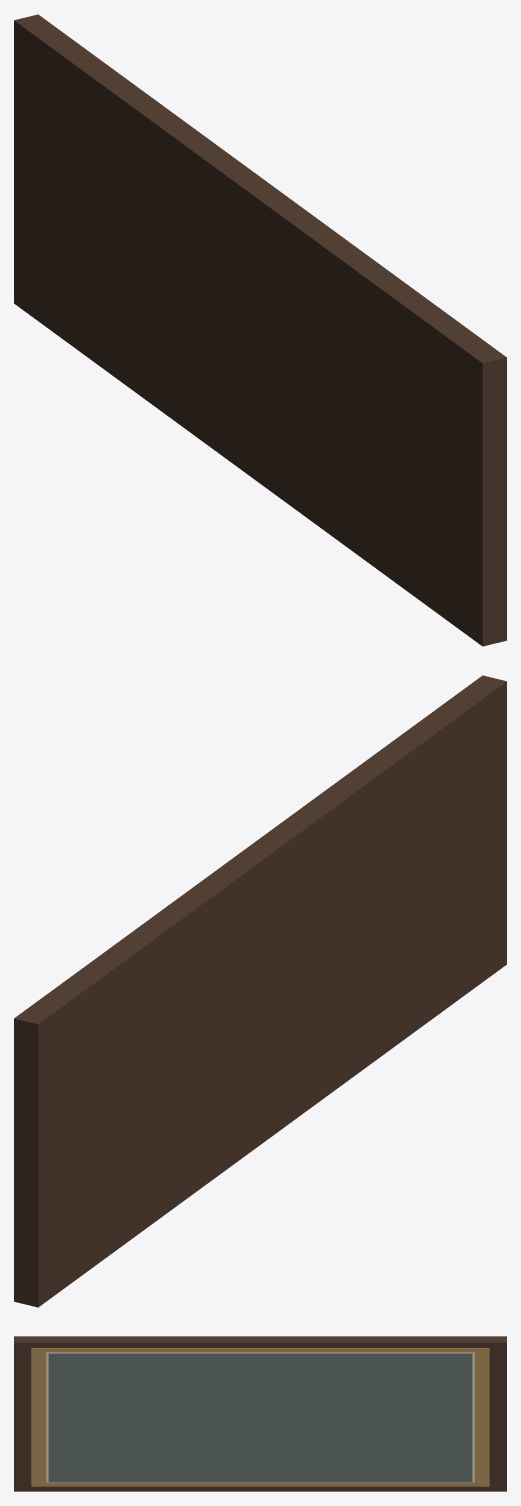
The model's file is LP_StaffToilet_Mirror.fbx.
The picture shows the model from 3 angles, top to bottom: view 1: azimuth 30°, elevation 25°; view 2: azimuth 150°, elevation 25°; view 3: azimuth 270°, elevation 25°; orthographic projection. The views are drawn at different scales.
Visible parts, largest first — view 1: Walnut; view 2: Walnut; view 3: M_Museum_BrushedMetal, Walnut, AgedBrass, WarmIvory.
Boxes of the visible parts, <box> form: Walnut: <box>14,14,506,646</box>; Walnut: <box>14,675,506,1307</box>; M_Museum_BrushedMetal: <box>48,1353,472,1481</box>; Walnut: <box>14,1336,506,1491</box>; AgedBrass: <box>31,1348,489,1486</box>; WarmIvory: <box>46,1352,474,1482</box>.
Bounding box in the file's own units: 8 × 80 × 240.
